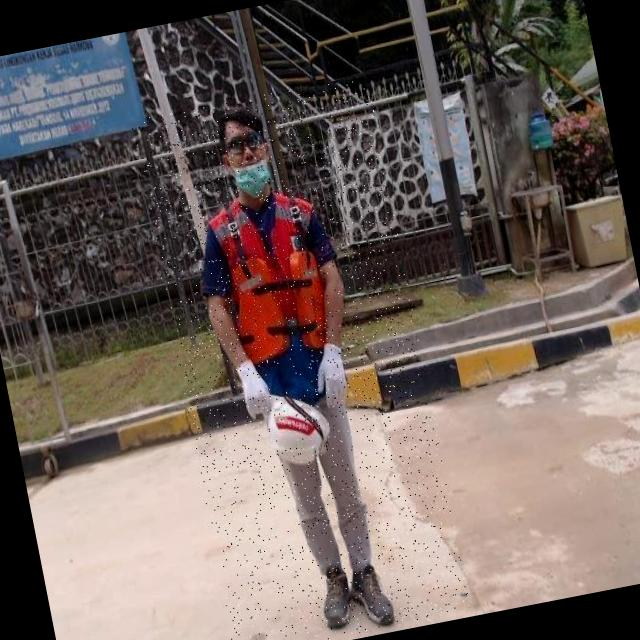boots: (346, 562, 400, 634), (310, 559, 358, 634)
helmet: (257, 382, 336, 474)
no-helmet: (206, 101, 289, 211)
vest: (204, 192, 352, 420)
